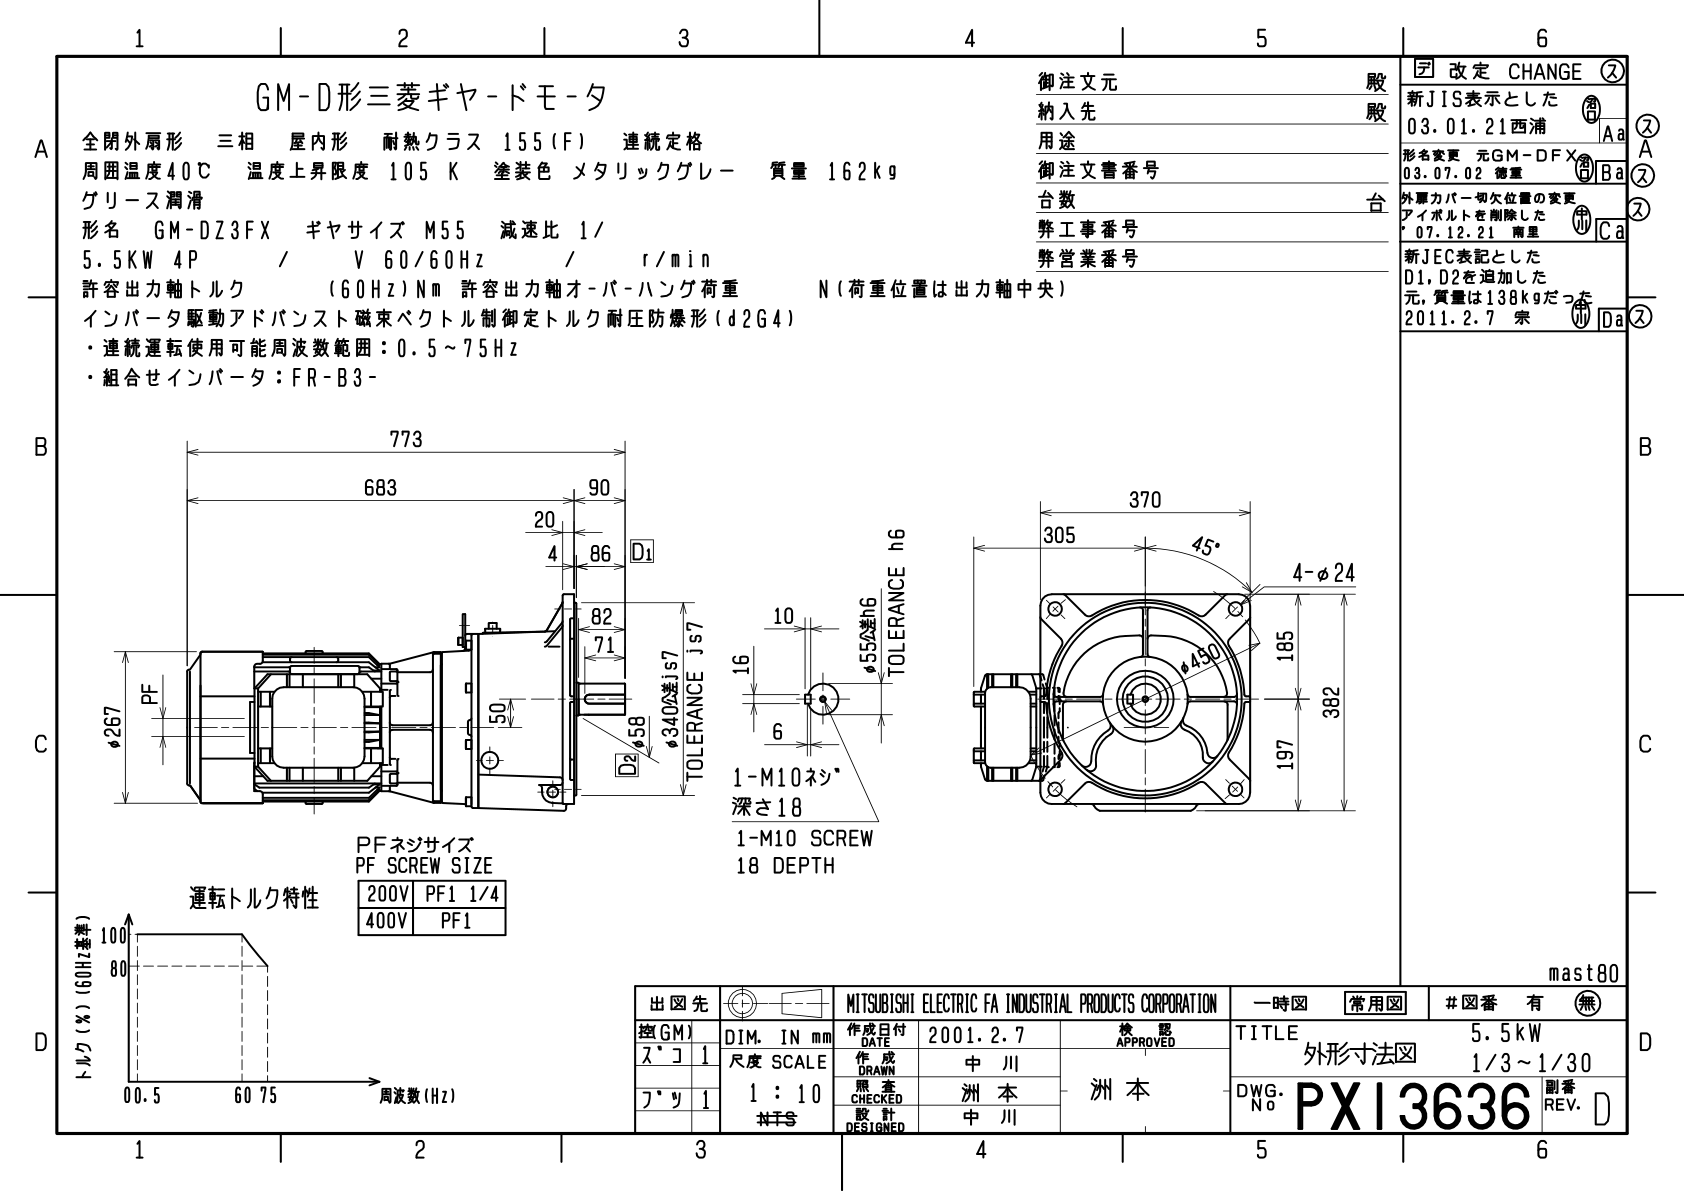GM_D_制御屋内_三相_フランジ: (70, 402, 1389, 962)
